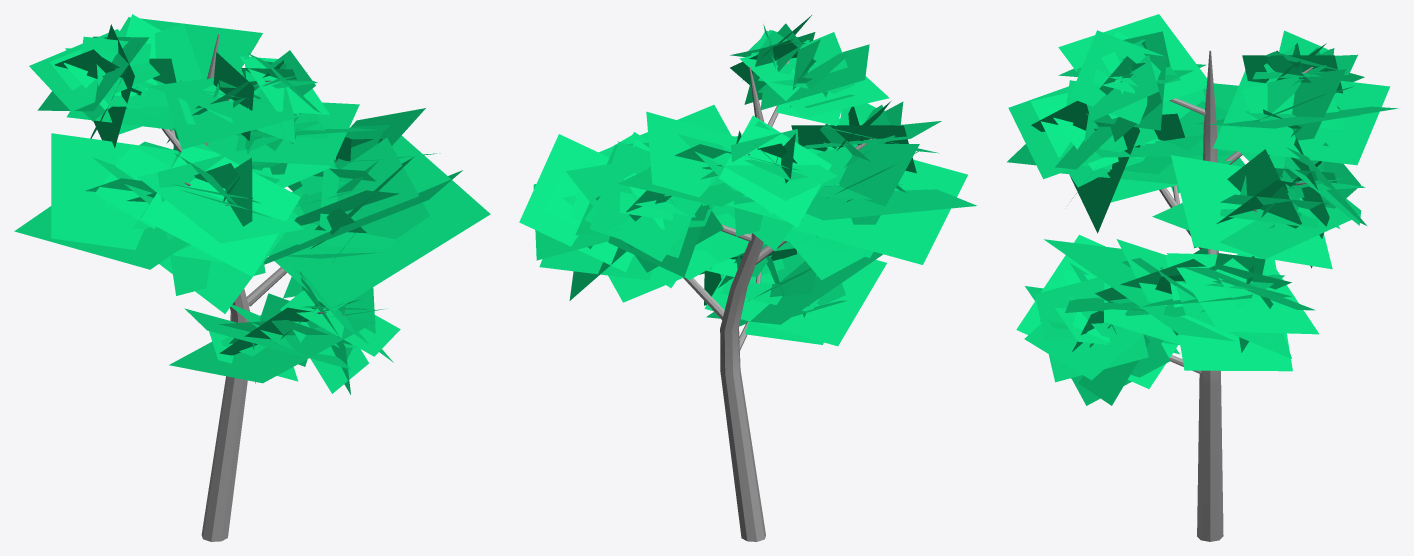
3 renders of one model, left to right at view 1: azimuth 30°, elevation 25°; view 2: azimuth 150°, elevation 25°; view 3: azimuth 270°, elevation 25°, orthographic. The views are drawn at different scales.
Parts seen in each view (by area): view 1: pasted__pasted__pasted__pPlane62; view 2: pasted__pasted__pasted__pPlane62; view 3: pasted__pasted__pasted__pPlane62.
Part boxes in pixels (box(x1,y1,x2,y2)): pasted__pasted__pasted__pPlane62: box(14, 14, 490, 541); pasted__pasted__pasted__pPlane62: box(519, 15, 976, 541); pasted__pasted__pasted__pPlane62: box(1007, 14, 1398, 541).
Size of the model in its own units: 349 by 397 by 281.
